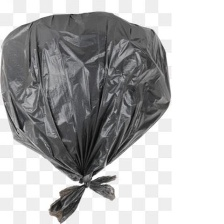plastic_bag: (0, 7, 180, 224)
